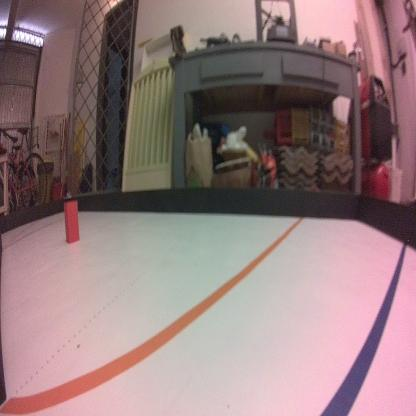red: (63, 200, 79, 246)
